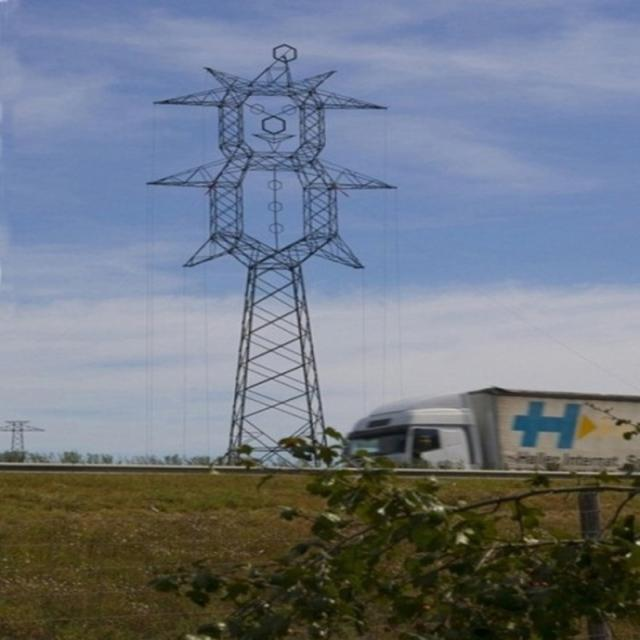non-critical vegetation: (142, 41, 396, 468)
